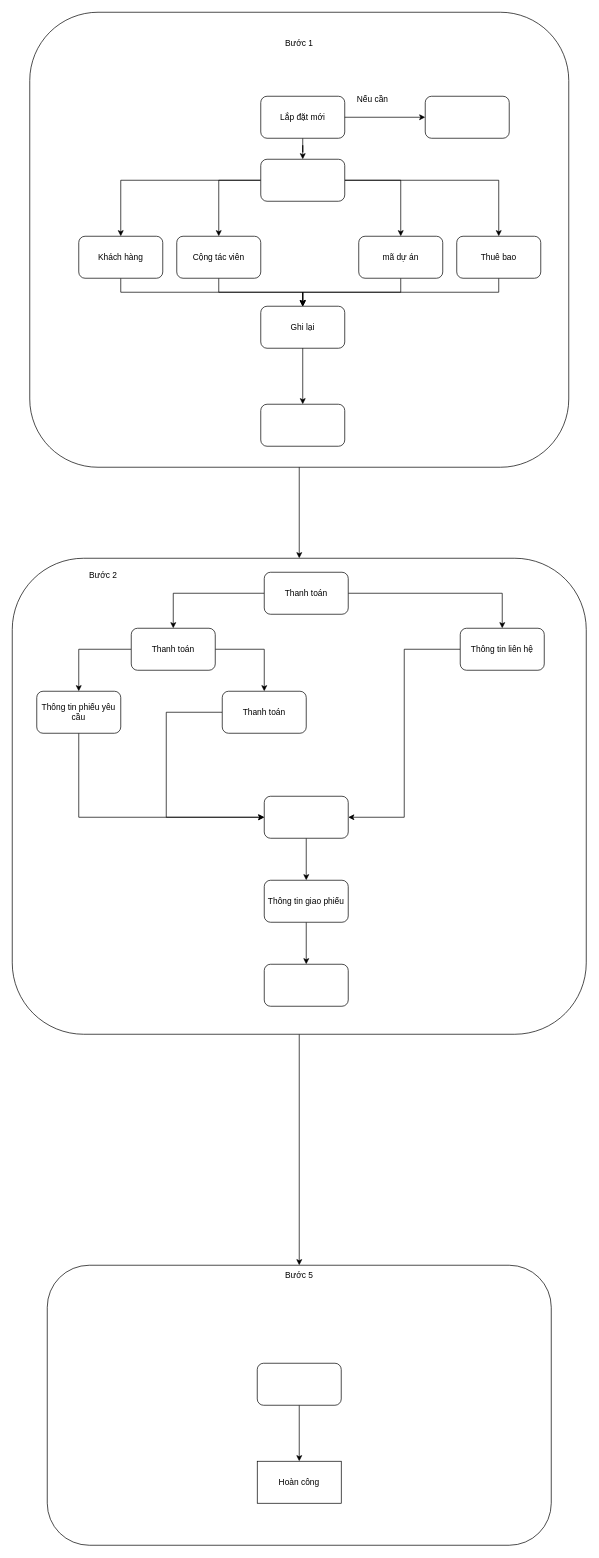
The diagram is 599 pixels wide and 1558 high, and some of its shapes have lost their labels. The shapes that lost their labels are listed below. From the top down, each one's box as (x1, y1, x2, y2) in pixels, then its label:
(425, 96, 509, 138): Tư vấn
(260, 159, 345, 201): Nhập thông tin
(260, 404, 345, 446): Hẹn khách hành
(264, 796, 348, 838): Giao phiếu điều hành thi công
(264, 964, 348, 1006): Giao phiếu
(257, 1363, 341, 1405): Tổ ktvt-thi công internet
